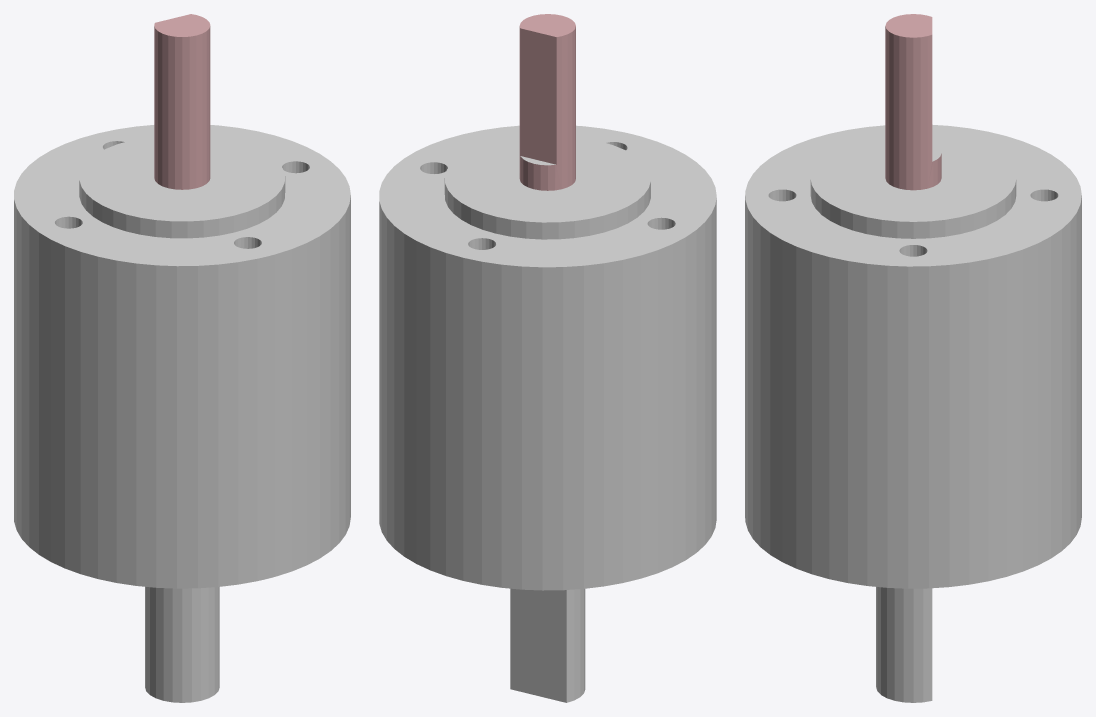
File: c_36_38_2.3dxml.glb
3 views of the same model, side by side, from view 1: azimuth 30°, elevation 25°; view 2: azimuth 150°, elevation 25°; view 3: azimuth 270°, elevation 25° (orthographic).
Parts seen in each view (by area): view 1: 双轴行星减速器36-38; view 2: 双轴行星减速器36-38; view 3: 双轴行星减速器36-38.
Part boxes in pixels (x1,y1,x2,y2): 双轴行星减速器36-38: [14, 14, 350, 702]; 双轴行星减速器36-38: [379, 14, 716, 702]; 双轴行星减速器36-38: [745, 14, 1081, 702].
Size of the model in its own units: 0.036 by 0.078 by 0.036.
